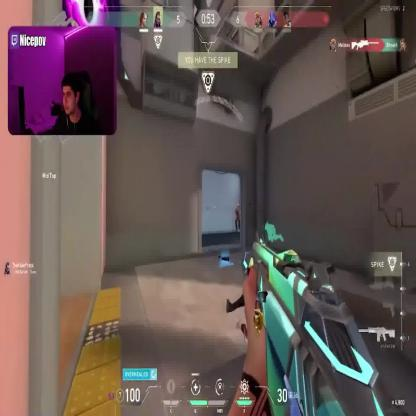enemy: (234, 203, 242, 233)
enemy_head: (237, 204, 240, 210)
